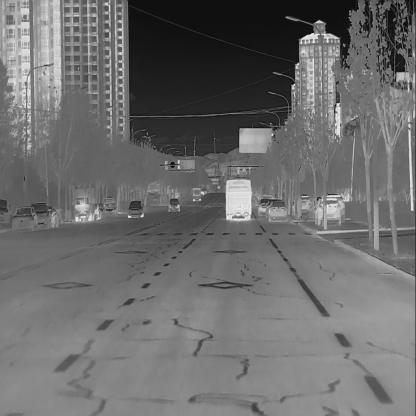bus: (225, 176, 252, 221), (191, 186, 202, 202)
car: (315, 197, 343, 226), (320, 194, 346, 224), (28, 201, 54, 228), (11, 205, 38, 230), (268, 200, 288, 221), (0, 197, 12, 226), (127, 199, 144, 219), (265, 199, 282, 219), (46, 206, 60, 227), (296, 193, 312, 211), (256, 197, 270, 215), (103, 199, 117, 215), (168, 197, 180, 212), (200, 187, 207, 196)
truck: (71, 184, 102, 223)
